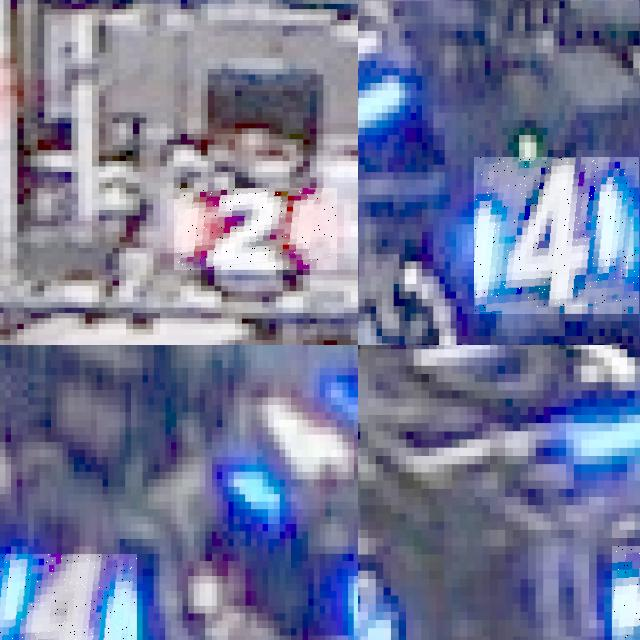B2: (612, 546, 640, 640), (358, 562, 391, 640)
B4: (474, 157, 639, 314), (0, 553, 136, 640)
R2: (174, 188, 337, 270)
